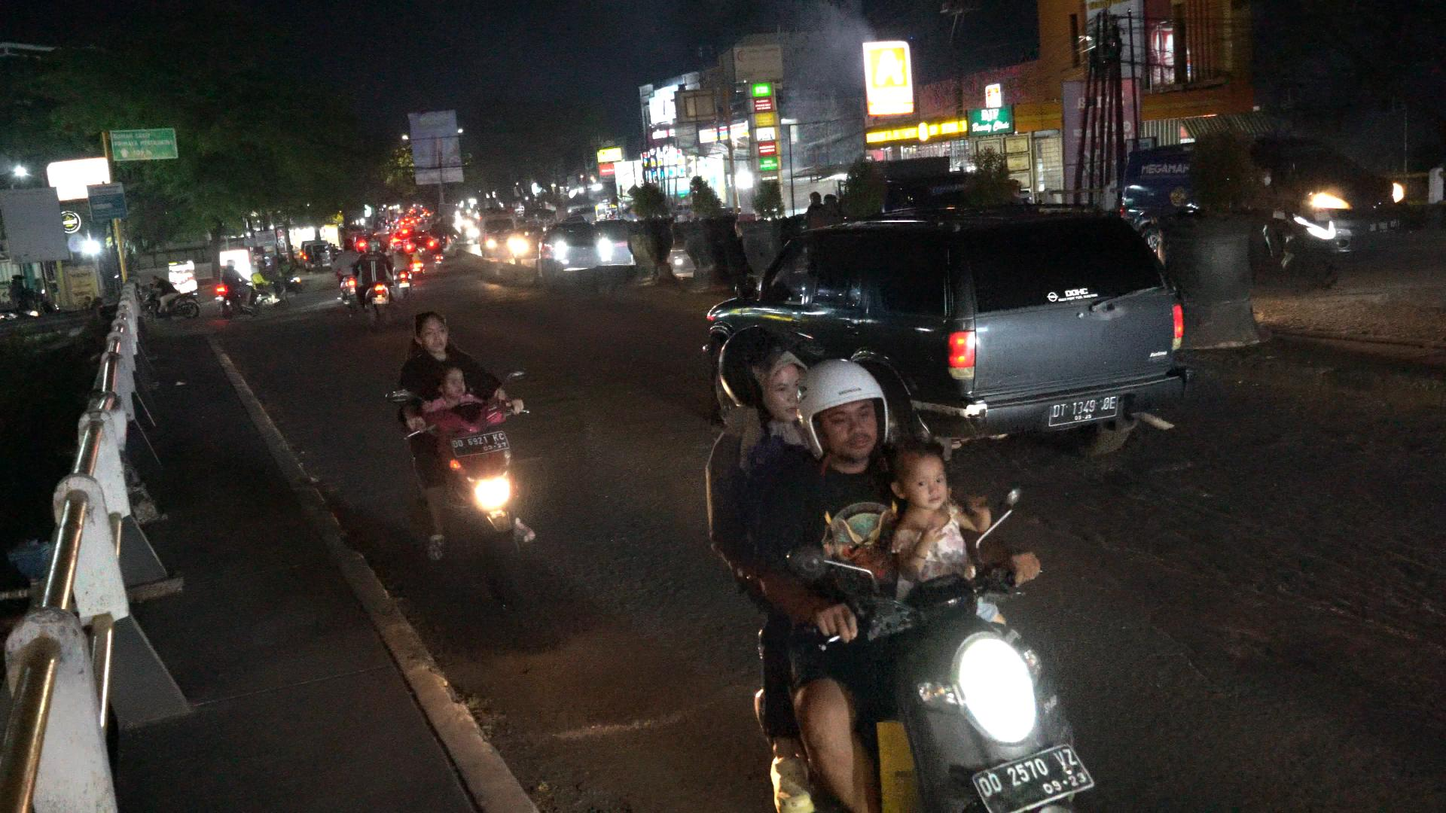number-plate: (966, 739, 1096, 813), (447, 432, 515, 459)
